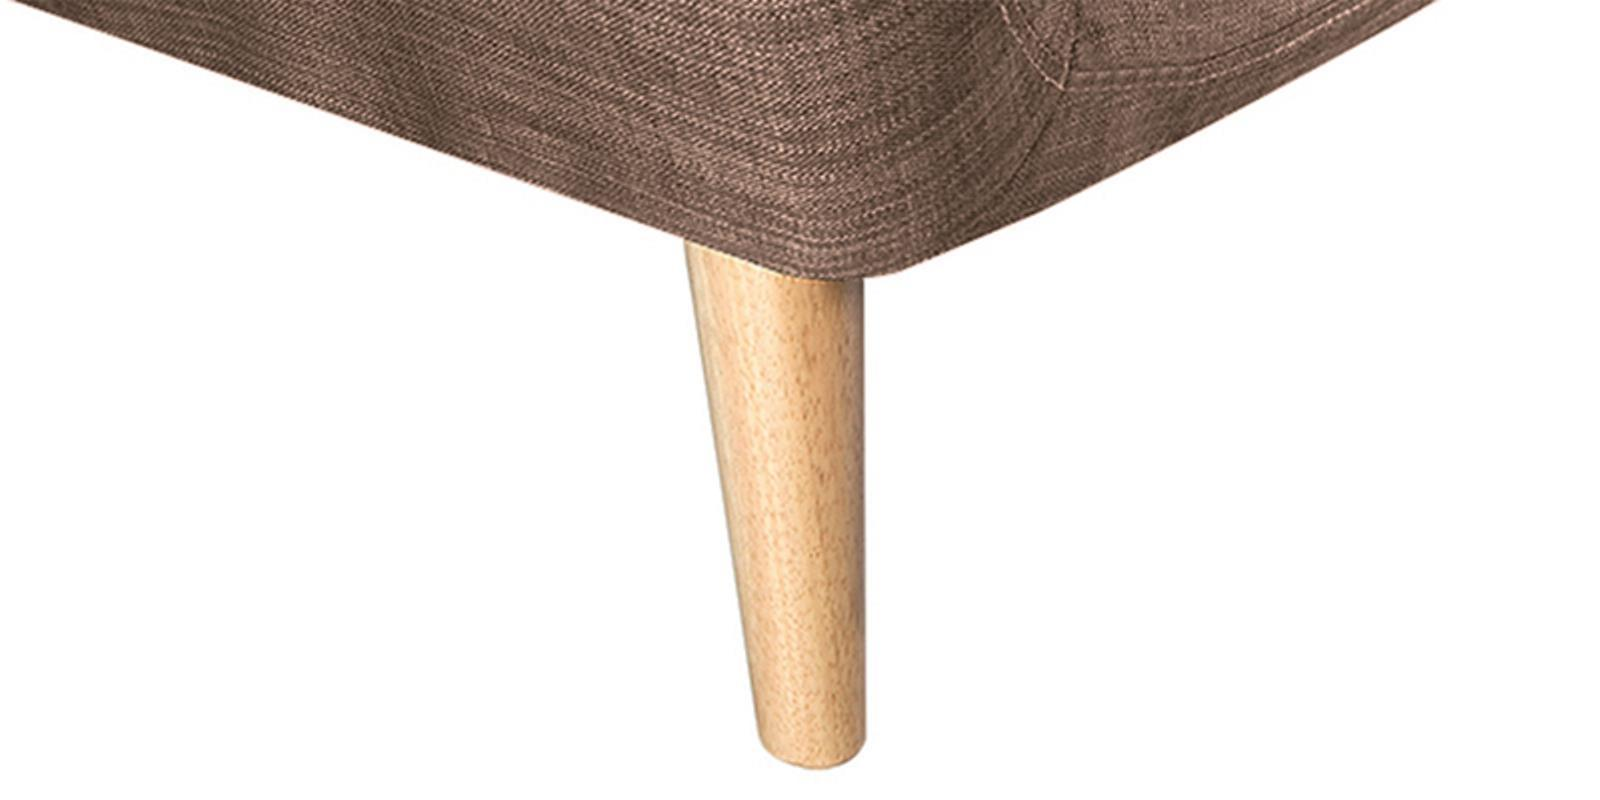Managua Three Seater Sofa in Coyote Colour by CasaCraft: (7, 1, 1441, 769)
